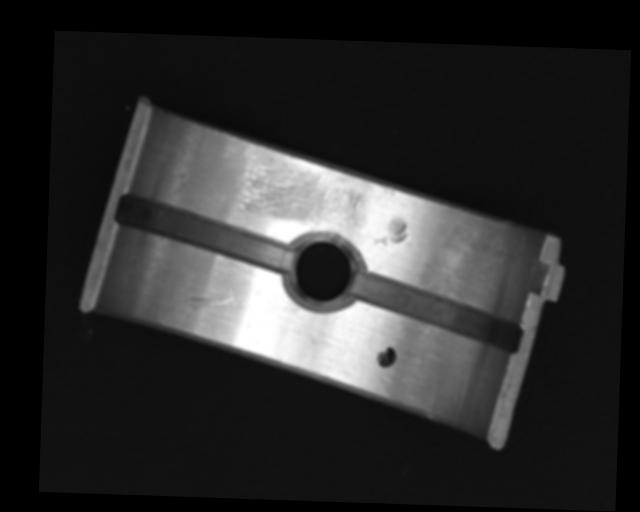blot: (375, 346, 397, 368)
bruise: (371, 215, 409, 247), (379, 183, 396, 197)
gap: (352, 270, 523, 355), (116, 194, 294, 272)
hole: (282, 229, 363, 314)
nick: (183, 292, 244, 312)
scratch: (235, 154, 372, 232)
